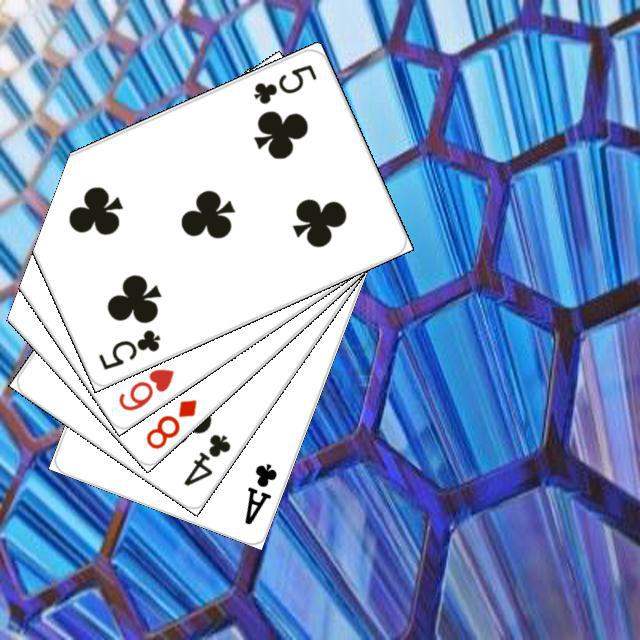4c: (178, 428, 233, 488)
5c: (93, 324, 163, 372), (248, 59, 319, 106)
6h: (113, 363, 176, 413)
8d: (141, 394, 199, 451)
Ac: (239, 458, 279, 527)
